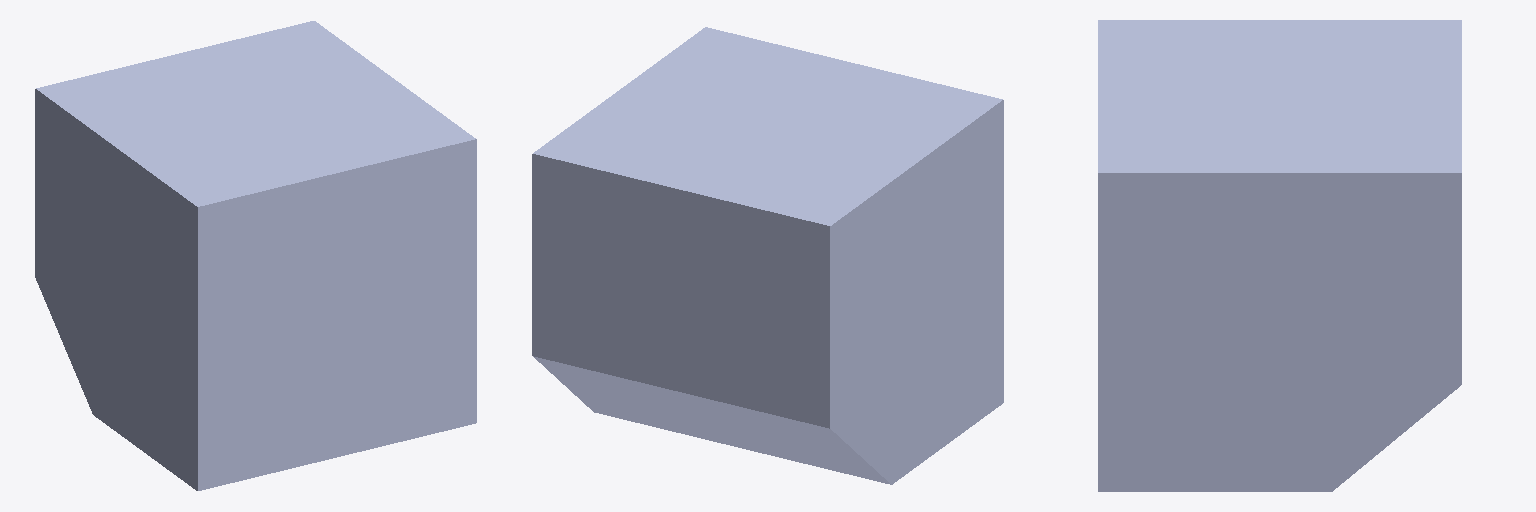
URDF robot description (Box6):
<?xml version="1.0" encoding="utf-8"?>
<!-- This URDF was automatically created by SolidWorks to URDF Exporter! Originally created by [author] ([email redacted]) 
     Commit Version: 1.6.0-1-g15f4949  Build Version: 1.6.7594.29634
     For more information, please see http://wiki.ros.org/sw_urdf_exporter -->
<robot
  name="Box6">
  <link
    name="base_link">
    <inertial>
      <origin
        xyz="0.077 0.0737809523809524 0.0786666666666667"
        rpy="0 0 0" />
      <mass
        value="3.36875" />
      <inertia
        ixx="0.0122632059305556"
        ixy="-5.04024938518557E-20"
        ixz="-3.07649425050656E-19"
        iyy="0.0125759715277778"
        iyz="-0.00076059423611111"
        izz="0.0130027802361111" />
    </inertial>
    <visual>
      <origin
        xyz="0 0 0"
        rpy="0 0 0" />
      <geometry>
        <mesh
          filename="package://Box6/meshes/base_link.STL" />
      </geometry>
      <material
        name="">
        <color
          rgba="0.792156862745098 0.819607843137255 0.933333333333333 1" />
      </material>
    </visual>
    <collision>
      <origin
        xyz="0 0 0"
        rpy="0 0 0" />
      <geometry>
        <mesh
          filename="package://Box6/meshes/base_link.STL" />
      </geometry>
    </collision>
  </link>
</robot>

--- Facts derived from the render (not from the file) ---
3 views of the same robot in one strip: view 1: azimuth 30°, elevation 25°; view 2: azimuth 150°, elevation 25°; view 3: azimuth 270°, elevation 25° (orthographic).
Model Box6 with 1 links and 0 joints (none), rooted at base_link, posed every joint at zero.
Links seen in each view (by area): view 1: base_link; view 2: base_link; view 3: base_link.
Boxes of the visible links, x1=… form: base_link: x1=35, y1=21, x2=476, y2=490; base_link: x1=532, y1=27, x2=1003, y2=484; base_link: x1=1098, y1=20, x2=1461, y2=491.
Bounding box of the posed robot: 0.154 × 0.155 × 0.15 m (x, y, z).
1 mesh visuals loaded from 1 distinct referenced files (1 binary STL).